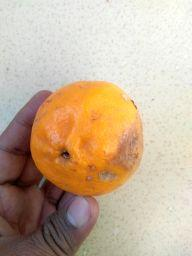Unripe: (31, 82, 141, 193)
